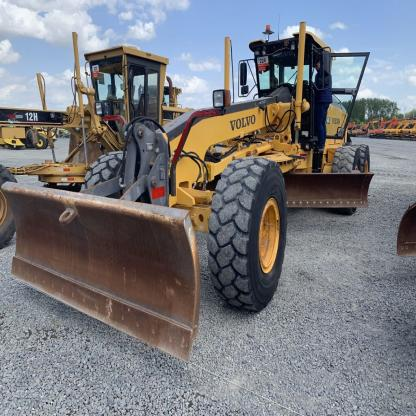bull_dozer/loader/grader: (18, 17, 390, 361)
